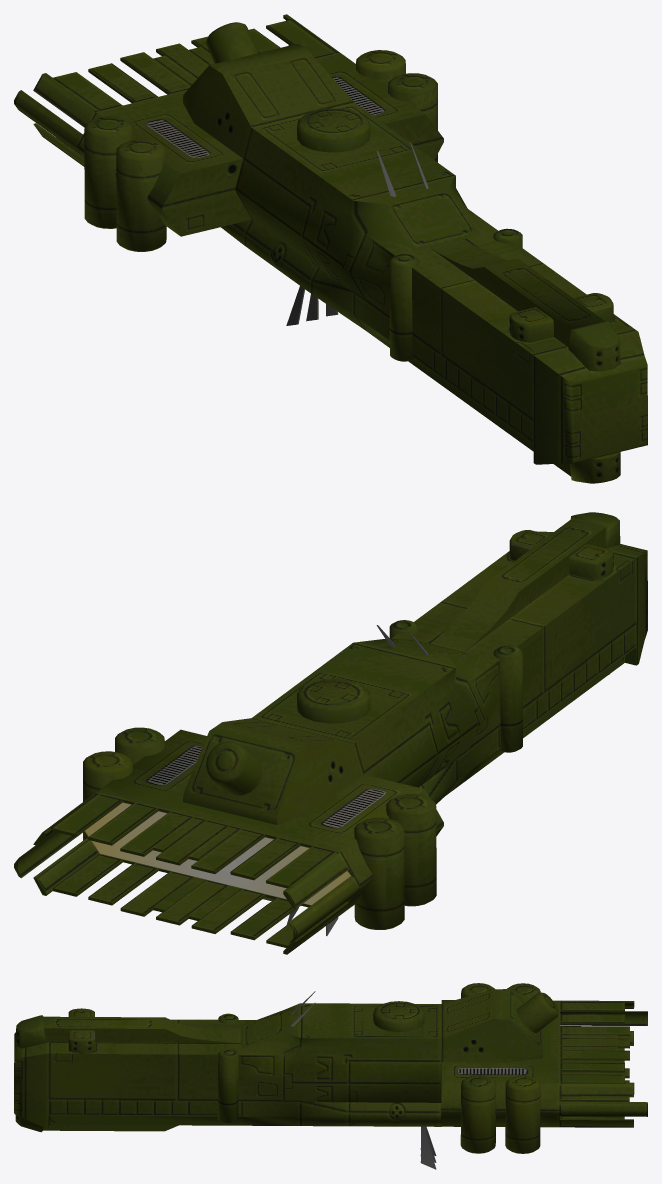
Rendered from fpa_invasion.obj.
3 renders of one model, top to bottom at view 1: azimuth 30°, elevation 25°; view 2: azimuth 150°, elevation 25°; view 3: azimuth 270°, elevation 25°, orthographic. The views are drawn at different scales.
Parts seen in each view (by area): view 1: fpa_invasion; view 2: fpa_invasion; view 3: fpa_invasion.
Boxes of the visible parts, x1,y1,x2,y2 form: fpa_invasion: (14,14,647,483); fpa_invasion: (14,512,647,954); fpa_invasion: (14,983,647,1169).
Bounding box in the file's own units: 83.06 × 61.18 × 208.
